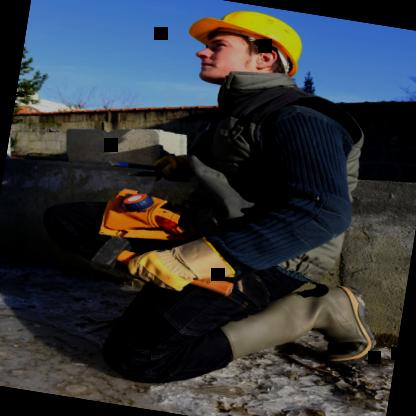helmet: (170, 0, 330, 98)
